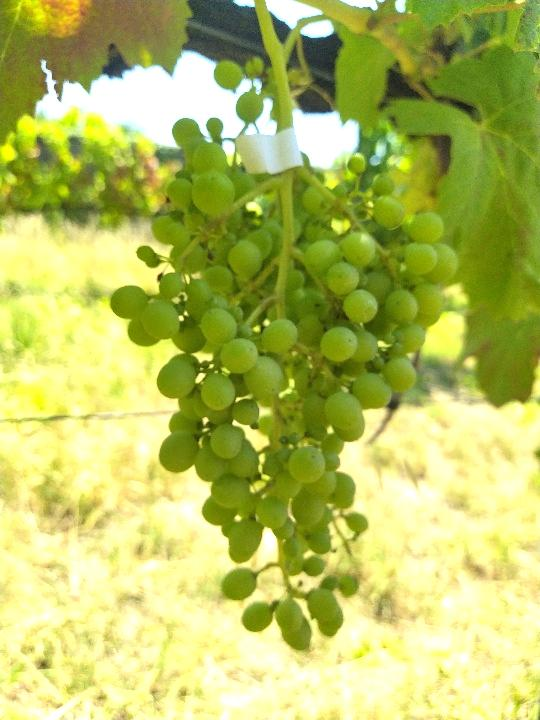grape: (109, 115, 464, 655)
